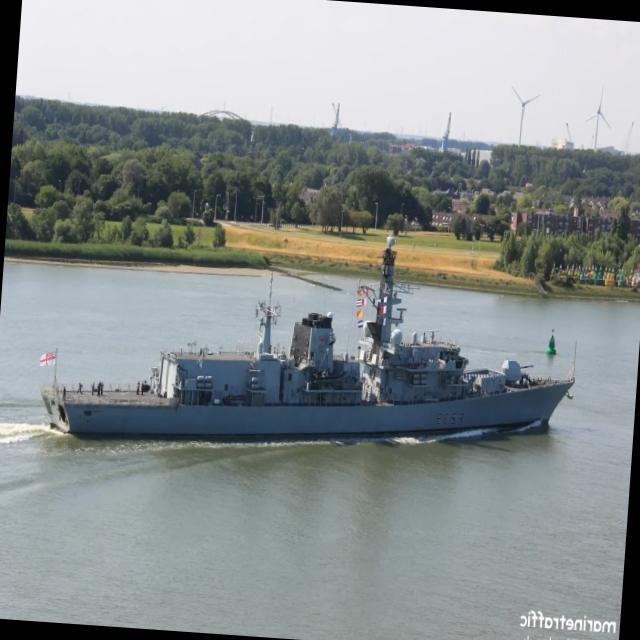Military: (41, 249, 575, 438)
